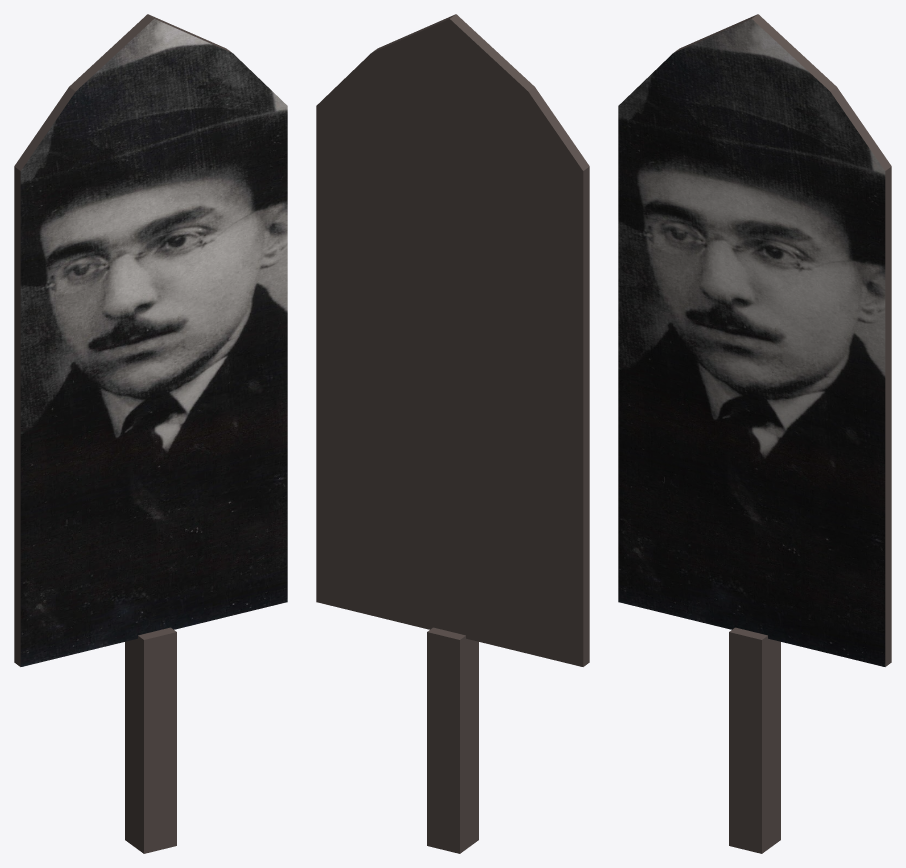
Rendered from fernando.fbx.
3 renders of one model, left to right at view 1: azimuth 30°, elevation 25°; view 2: azimuth 150°, elevation 25°; view 3: azimuth 330°, elevation 25°, orthographic.
Visible parts, largest first — view 1: pCube1, pCube2; view 2: pCube1, pCube2; view 3: pCube1, pCube2.
Boxes of the visible parts, box(x1,y1,x2,y2) form: pCube1: box(14, 14, 287, 666); pCube2: box(125, 627, 176, 853); pCube1: box(316, 14, 589, 666); pCube2: box(427, 627, 478, 853); pCube1: box(618, 14, 891, 666); pCube2: box(729, 627, 780, 853).
Bounding box in the file's own units: 6.51 × 19.25 × 0.8011.
Materials: 2 (1 with a texture image).
